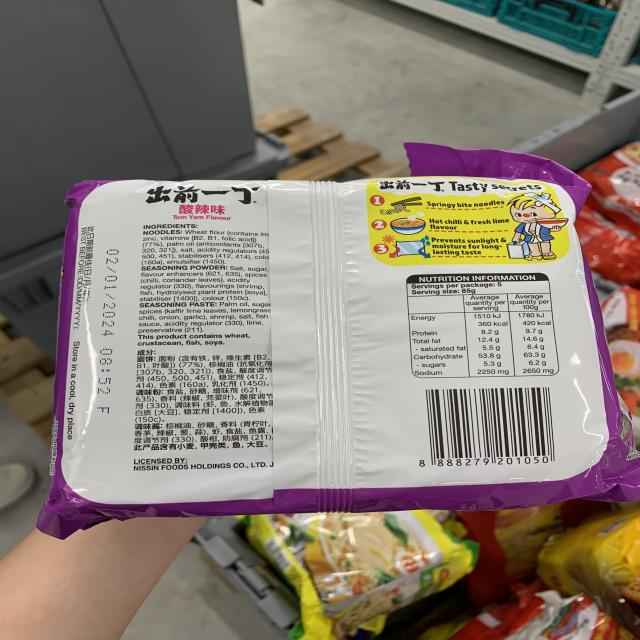object_name: (71, 182, 606, 493)
